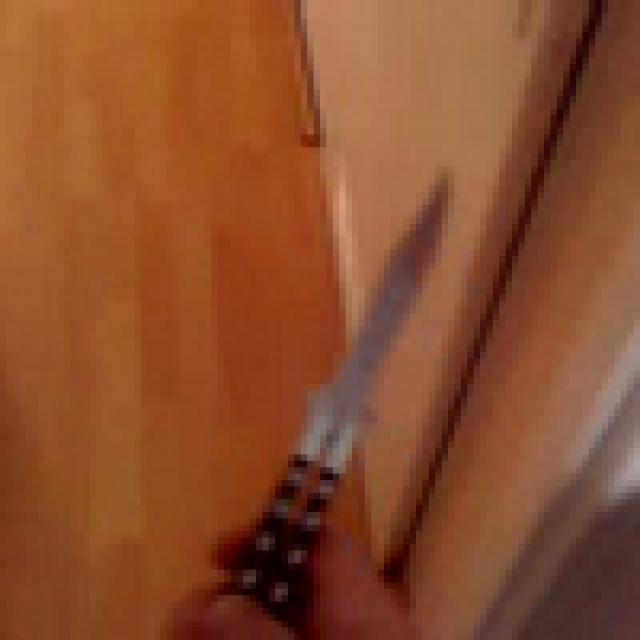knife: (179, 109, 563, 634)
